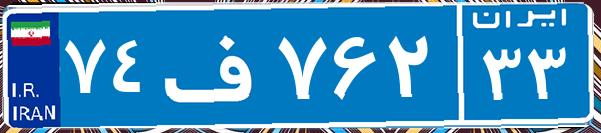2: (385, 28, 445, 110)
3: (475, 38, 525, 113), (525, 38, 570, 115)
4: (110, 28, 158, 105)
6: (330, 28, 385, 110)
7: (273, 28, 330, 110), (57, 26, 110, 107)
ف: (158, 15, 273, 115)
